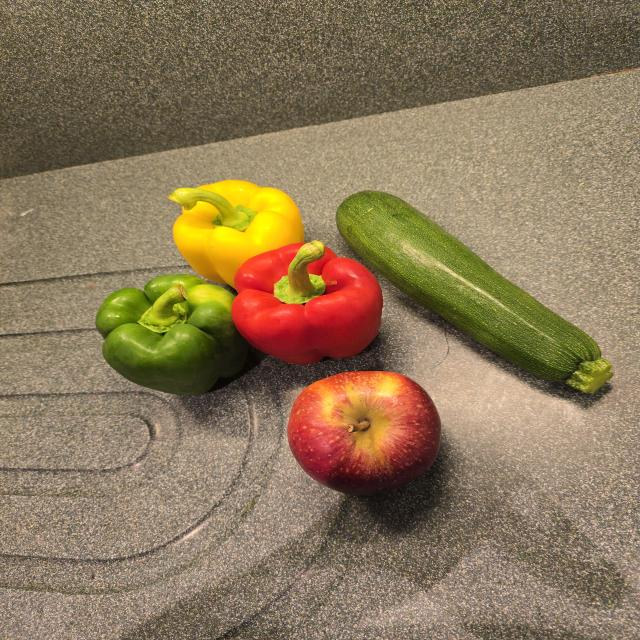Apple: (288, 371, 441, 494)
Bell Pepper: (233, 240, 383, 364), (96, 274, 248, 396), (169, 180, 304, 287)
Courgette: (336, 191, 612, 392)
